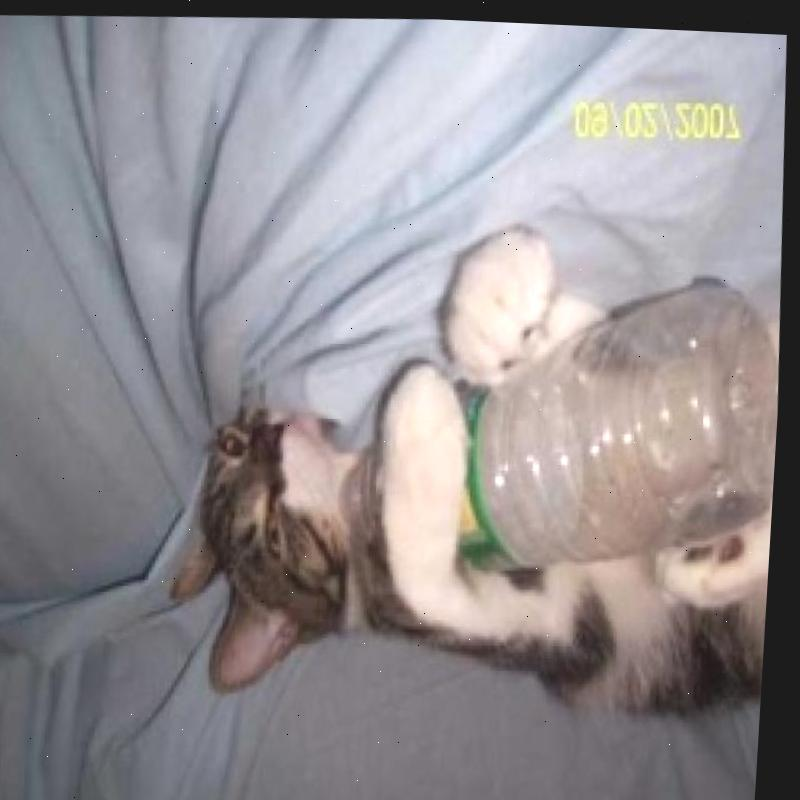botella: (451, 256, 789, 578)
